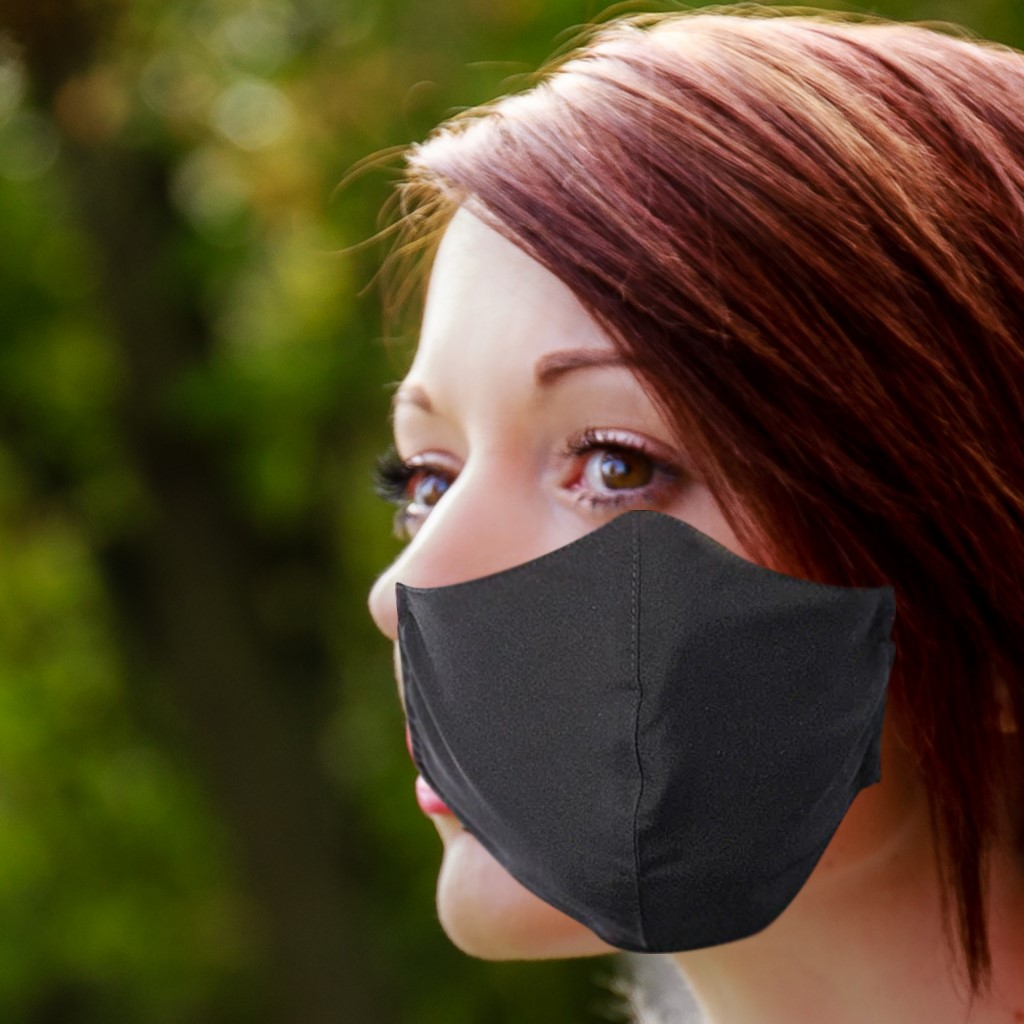con_mascara: (371, 216, 847, 964)
